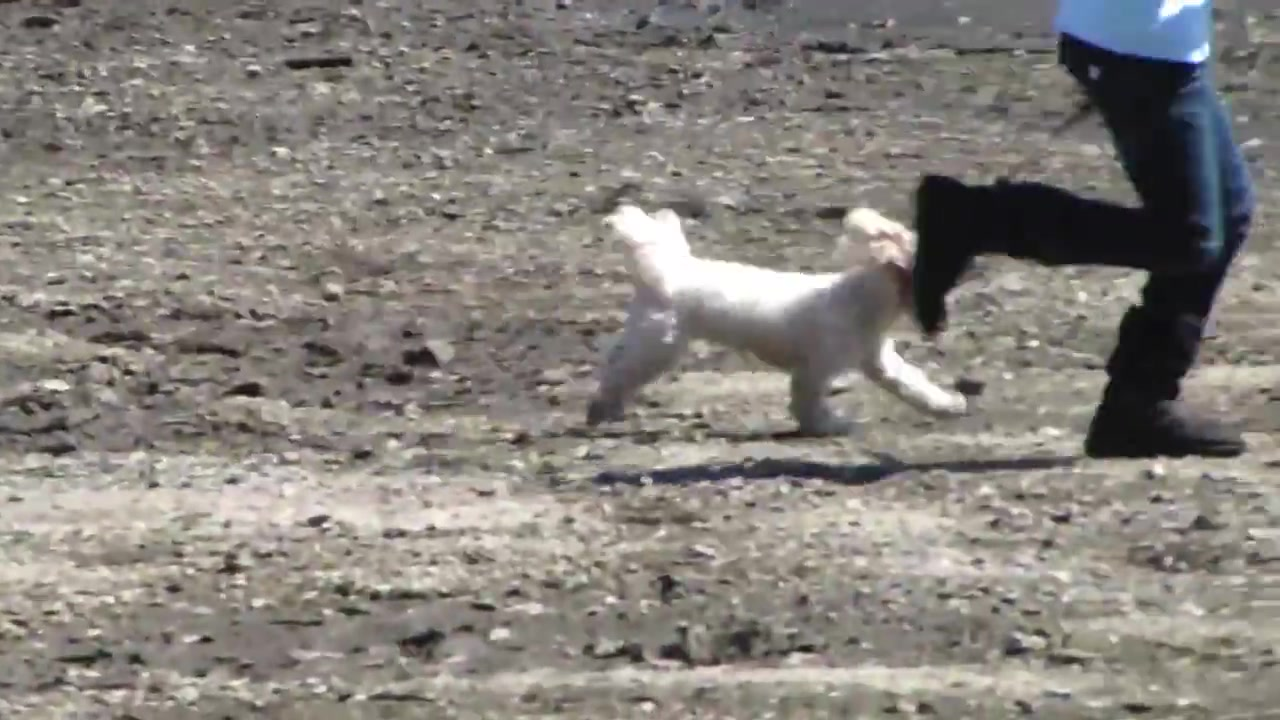dog: (585, 197, 971, 439)
